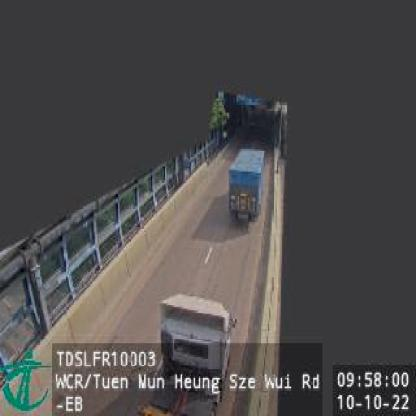Truck: (132, 289, 236, 416), (228, 149, 264, 227)
